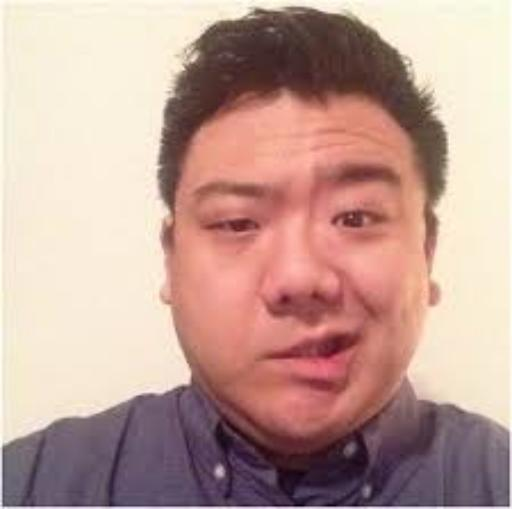left_eye: (326, 208, 391, 234)
left_lip_corner: (348, 327, 373, 350)
right_eye: (203, 216, 262, 240)
right_lip_corner: (256, 349, 279, 371)
